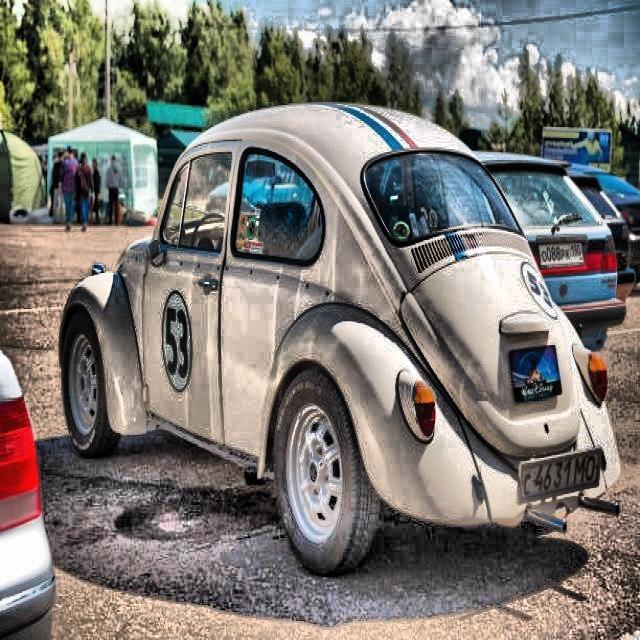carro: (53, 106, 622, 552)
